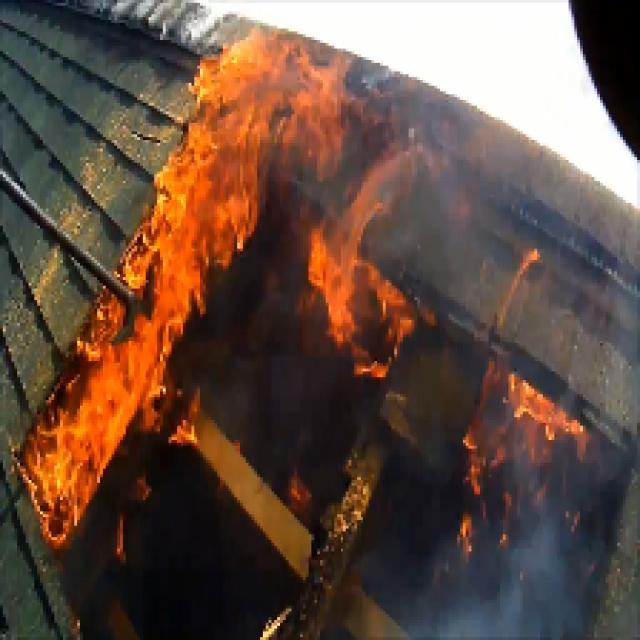Fire: (48, 336, 164, 475), (147, 192, 236, 301), (181, 81, 271, 178)
